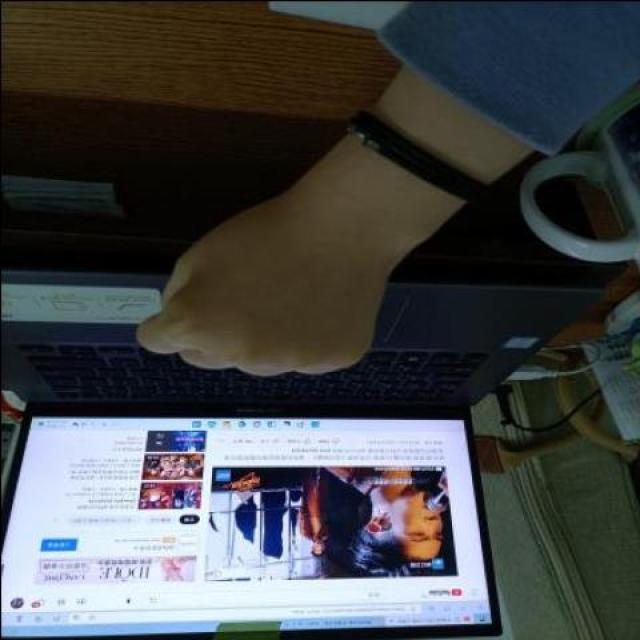fist: (130, 199, 389, 381)
